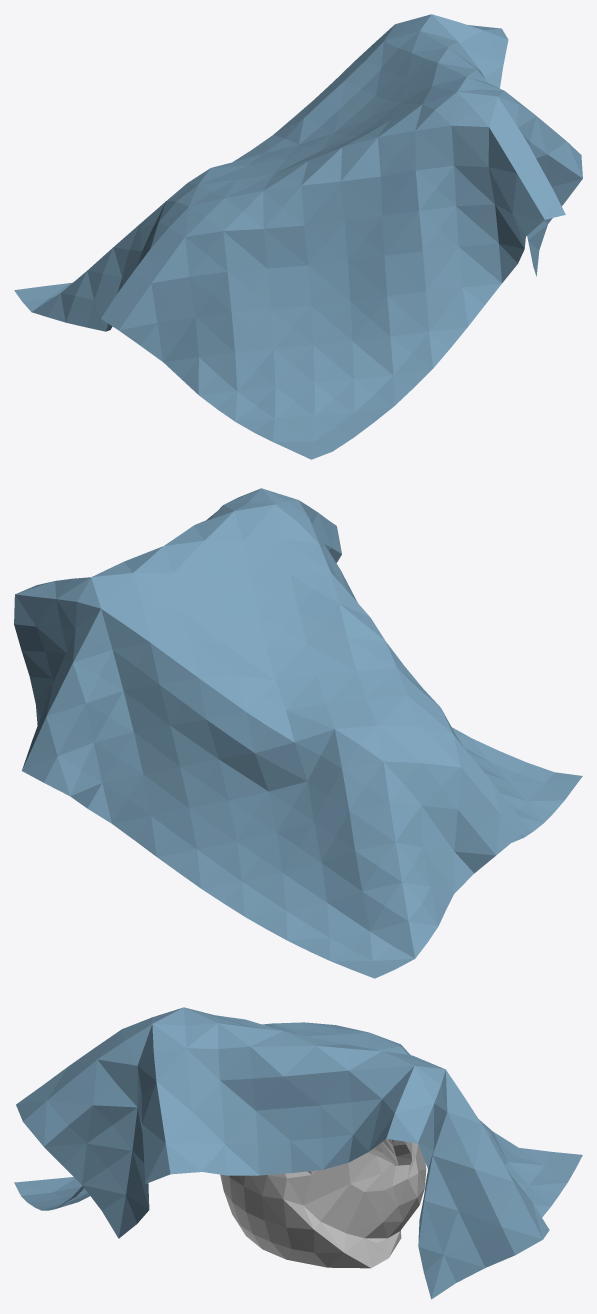
The model's file is level_0.glb.
3 views of the same model, one above another, from view 1: azimuth 30°, elevation 25°; view 2: azimuth 150°, elevation 25°; view 3: azimuth 270°, elevation 25° (orthographic). The views are drawn at different scales.
Visible parts, largest first — view 1: world; view 2: world; view 3: world, object.obj.
Part boxes in pixels (x1,y1,x2,y2): world: [14, 14, 582, 459]; world: [14, 488, 582, 978]; world: [14, 1007, 582, 1299]; object.obj: [220, 1139, 426, 1268].
Size of the model in its own units: 0.5203 by 0.293 by 0.5067.
